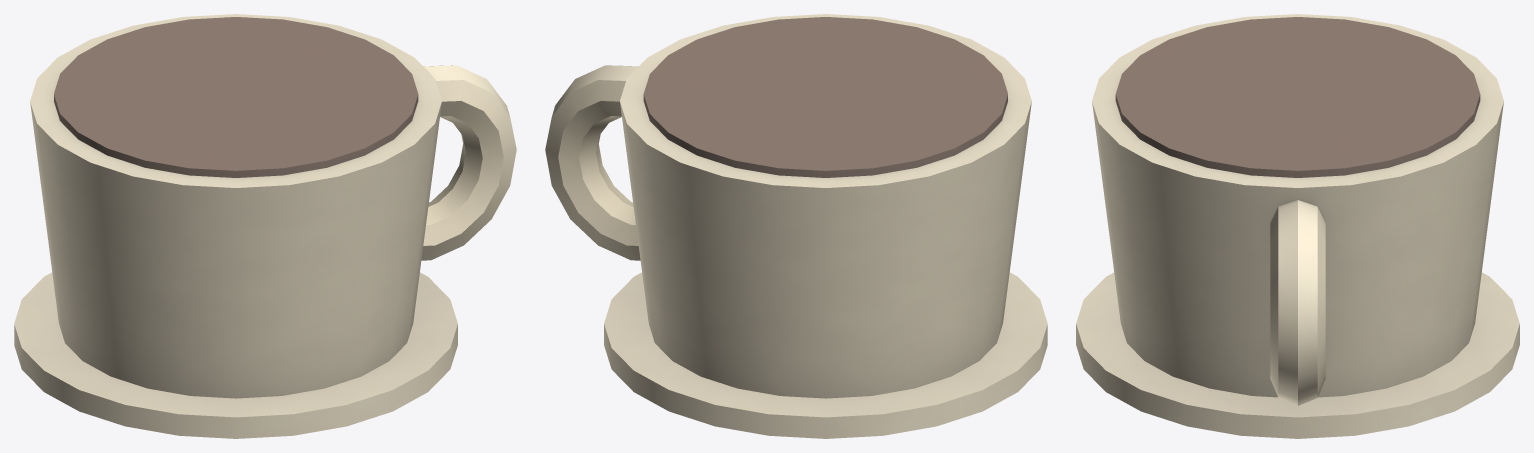
Rendered from CoffeeCup.fbx.
3 renders of one model, left to right at view 1: azimuth 30°, elevation 25°; view 2: azimuth 150°, elevation 25°; view 3: azimuth 270°, elevation 25°, orthographic.
Parts seen in each view (by area): view 1: CoffeeCup; view 2: CoffeeCup; view 3: CoffeeCup.
Part boxes in pixels (<box>): CoffeeCup: <box>14,14,516,438</box>; CoffeeCup: <box>545,14,1047,438</box>; CoffeeCup: <box>1076,14,1519,438</box>.
Size of the model in its own units: 68.5 by 35 by 56.
